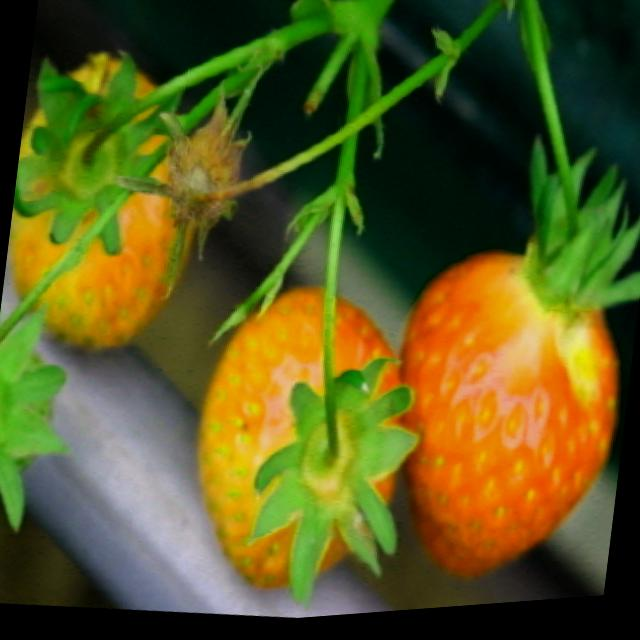Gray Mold: (122, 92, 256, 277)
